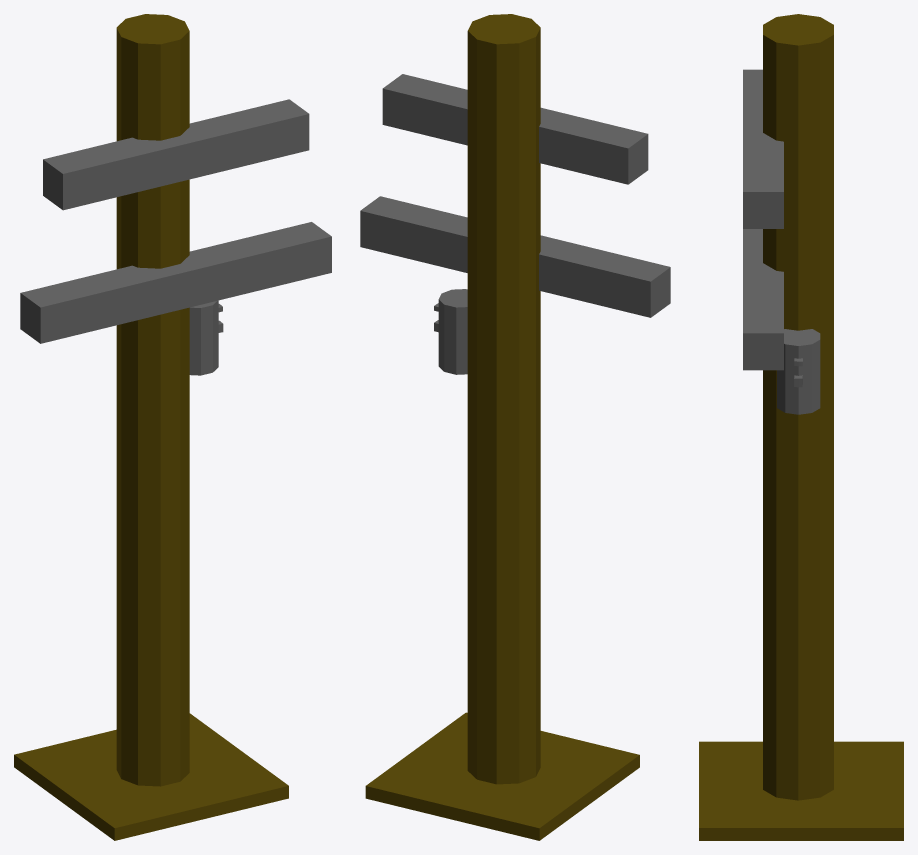
File: Power poll.fbx
3 renders of one model, left to right at view 1: azimuth 30°, elevation 25°; view 2: azimuth 150°, elevation 25°; view 3: azimuth 270°, elevation 25°, orthographic. The views are drawn at different scales.
Visible parts, largest first — view 1: polySurface4, polySurface3, polySurface5, polySurface2, polySurface1; view 2: polySurface4, polySurface5, polySurface3, polySurface2, polySurface1; view 3: polySurface4, polySurface5, polySurface2, polySurface3, polySurface1.
Part boxes in pixels (bbox=[...]): polySurface4: bbox=[116, 14, 189, 786]; polySurface3: bbox=[20, 222, 331, 343]; polySurface5: bbox=[14, 713, 288, 840]; polySurface2: bbox=[43, 99, 309, 210]; polySurface1: bbox=[189, 300, 223, 375]; polySurface4: bbox=[467, 14, 540, 784]; polySurface5: bbox=[365, 712, 639, 840]; polySurface3: bbox=[360, 196, 670, 317]; polySurface2: bbox=[382, 74, 648, 184]; polySurface1: bbox=[434, 289, 467, 374]; polySurface4: bbox=[763, 14, 833, 800]; polySurface5: bbox=[699, 741, 903, 840]; polySurface2: bbox=[743, 69, 783, 228]; polySurface3: bbox=[743, 229, 783, 370]; polySurface1: bbox=[777, 329, 820, 414].
Size of the model in its own units: 11.31 by 27.99 by 6.76.
